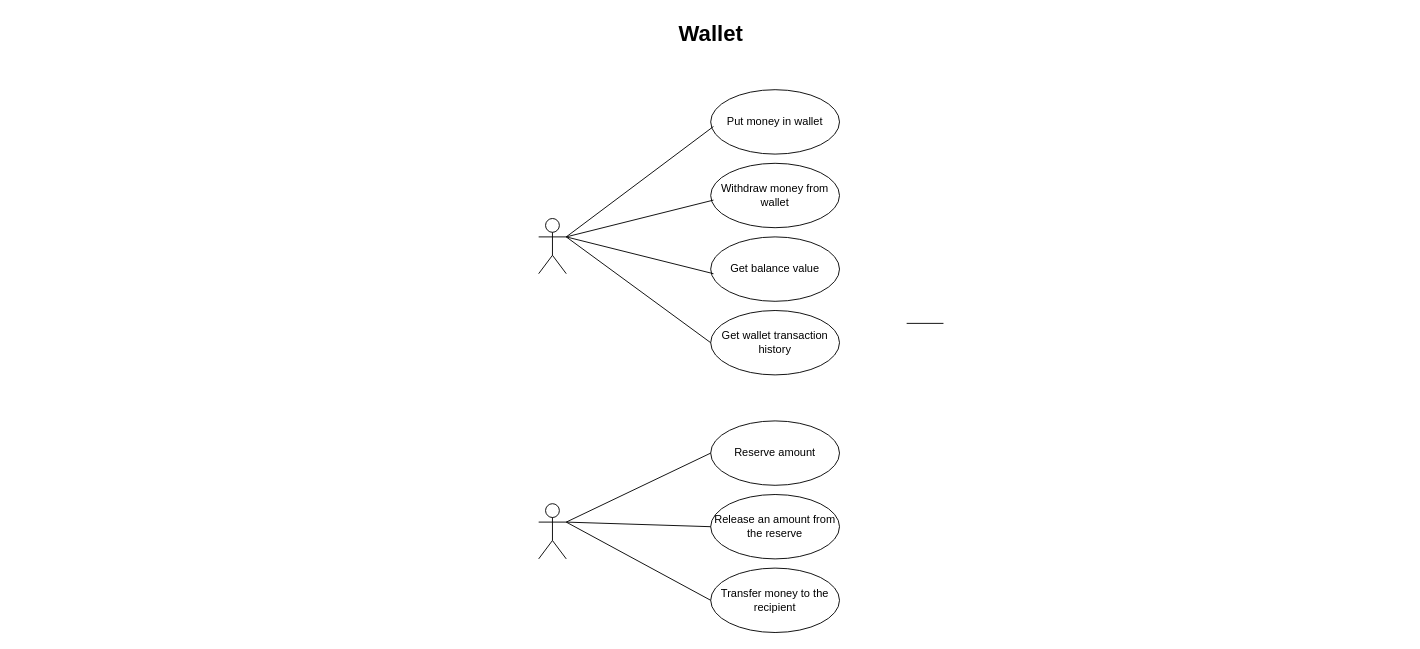
Image size: 1420x649. Some labels were removed from this diagram. Here are the shapes that lost their labels. From the top down, the box of each, then its label:
(538, 218, 566, 274): Owner
(538, 503, 566, 559): System
